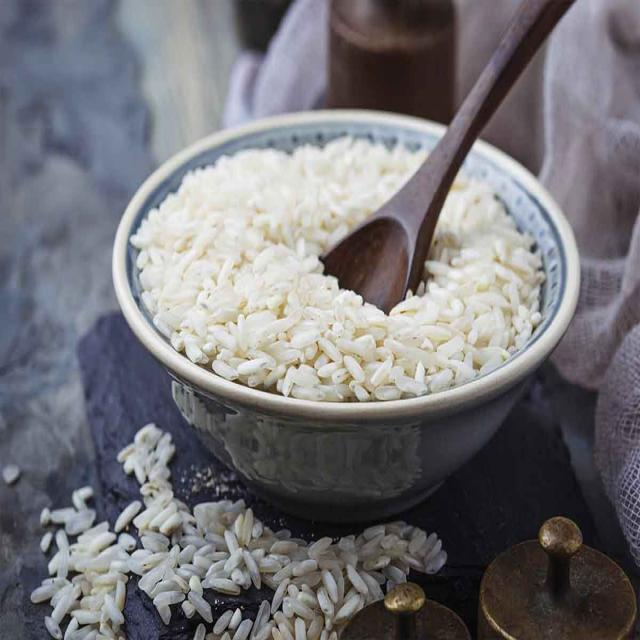arroz: (129, 112, 560, 431)
